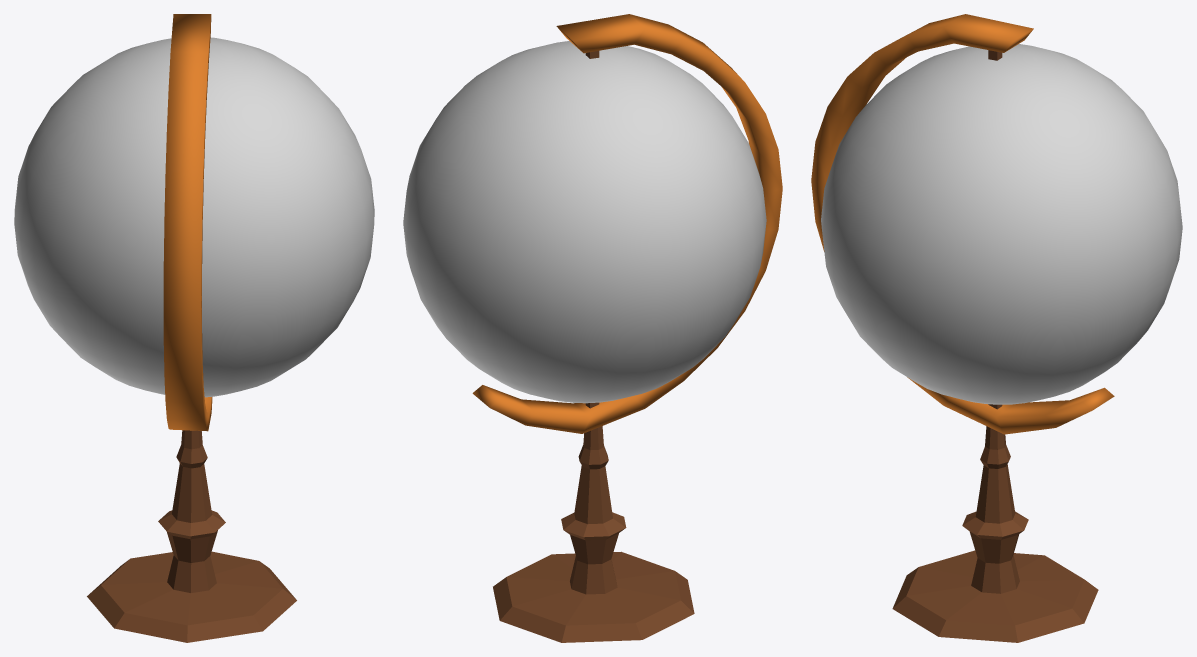
The model's file is globe.fbx.
The picture shows the model from 3 angles, left to right: view 1: azimuth 30°, elevation 25°; view 2: azimuth 150°, elevation 25°; view 3: azimuth 270°, elevation 25°; orthographic projection.
Parts seen in each view (by area): view 1: Sphere, globe.001; view 2: Sphere, globe.001; view 3: Sphere, globe.001.
Boxes of the visible parts, x1=… form: Sphere: x1=14, y1=37, x2=374, y2=397; globe.001: x1=87, y1=14, x2=296, y2=642; Sphere: x1=403, y1=41, x2=766, y2=403; globe.001: x1=472, y1=14, x2=782, y2=642; Sphere: x1=821, y1=44, x2=1182, y2=404; globe.001: x1=811, y1=14, x2=1114, y2=642.
Size of the model in its own units: 25.77 by 44.94 by 26.46.
